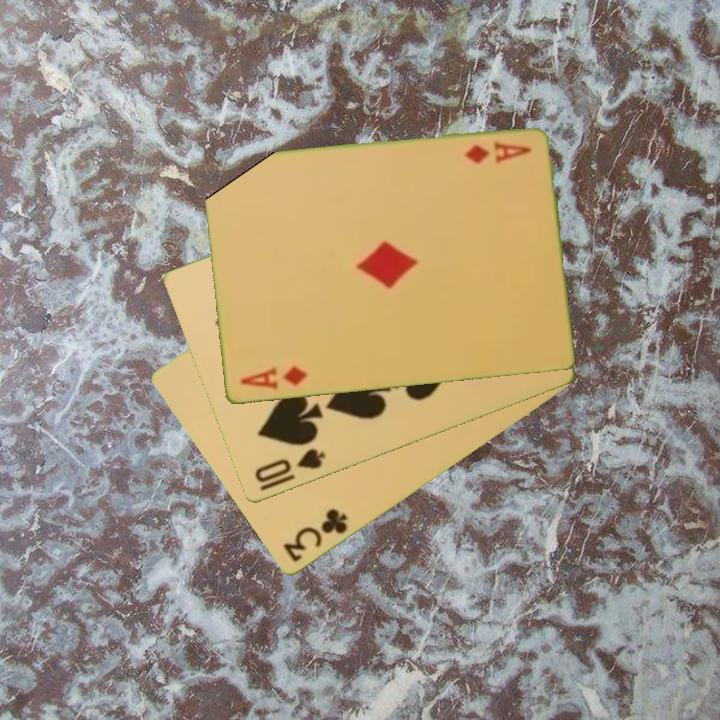10s: (251, 445, 328, 486)
3c: (279, 505, 351, 566)
Ad: (236, 363, 310, 393), (461, 138, 535, 168)
